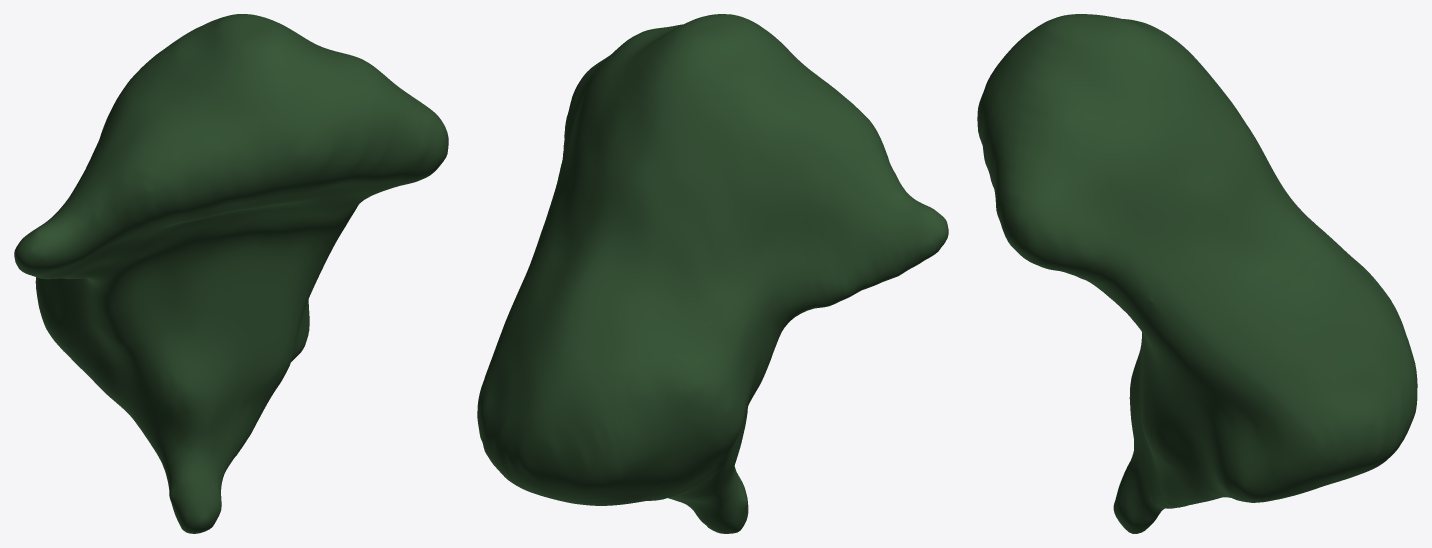
File: uterus_ge.obj
3 renders of one model, left to right at view 1: azimuth 30°, elevation 25°; view 2: azimuth 150°, elevation 25°; view 3: azimuth 270°, elevation 25°, orthographic. The views are drawn at different scales.
Visible parts, largest first — view 1: uterus; view 2: uterus; view 3: uterus.
Boxes of the visible parts, x1=… form: uterus: x1=14, y1=14, x2=448, y2=533; uterus: x1=477, y1=14, x2=948, y2=533; uterus: x1=977, y1=14, x2=1417, y2=533.
Size of the model in its own units: 13.07 by 15.67 by 11.93.
